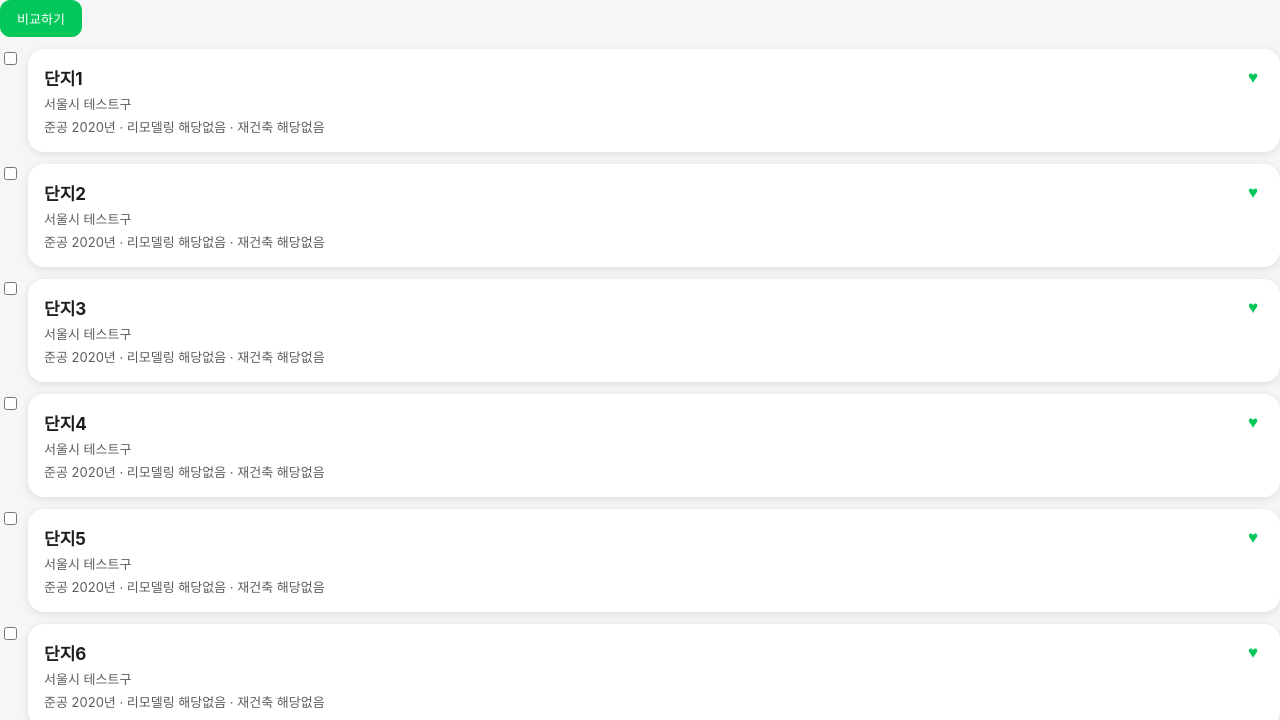
Test case: FavoriteComplexesTab › 5개 초과 선택을 시도하면 6번째는 선택되지 않고 경고 모달이 표시된다 (시나리오 3-2 Case 1)
Click the checkbox named "단지1 선택".
click(10, 58)  # box [4, 52, 17, 65]
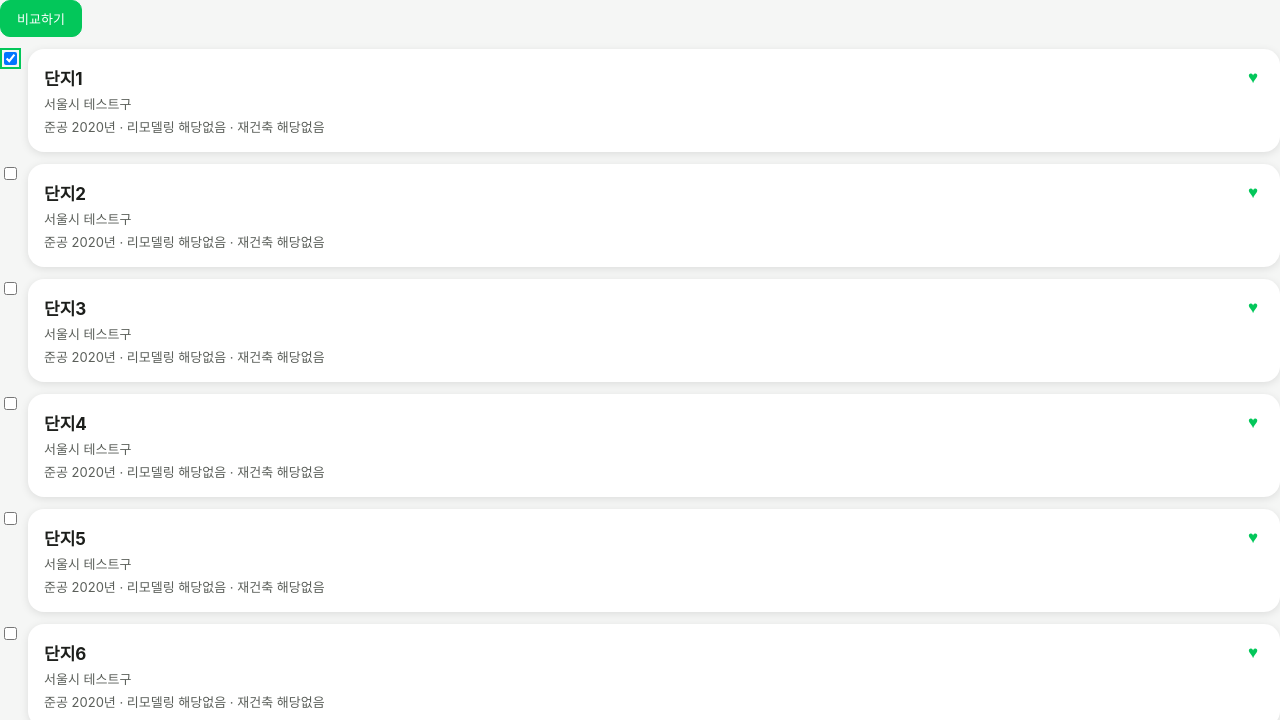
Click the checkbox named "단지2 선택".
click(10, 174)  # box [4, 167, 17, 180]
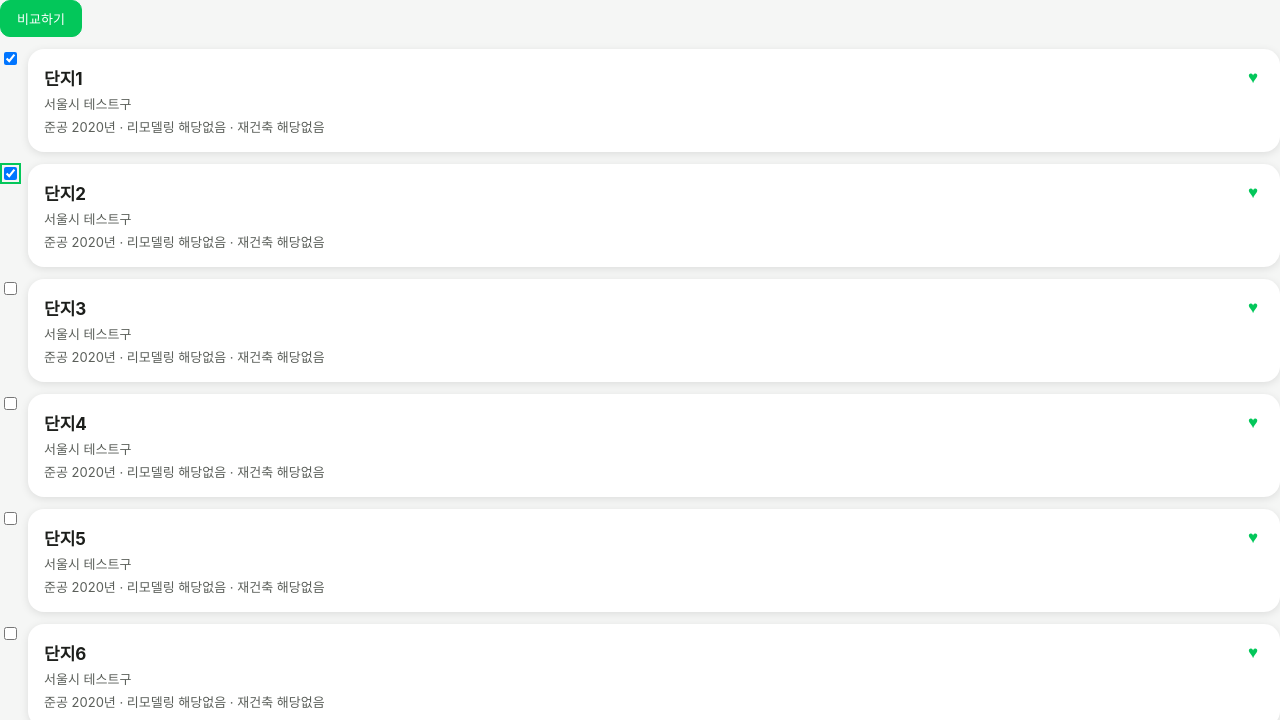
Click the checkbox named "단지3 선택".
click(10, 288)  # box [4, 282, 17, 295]
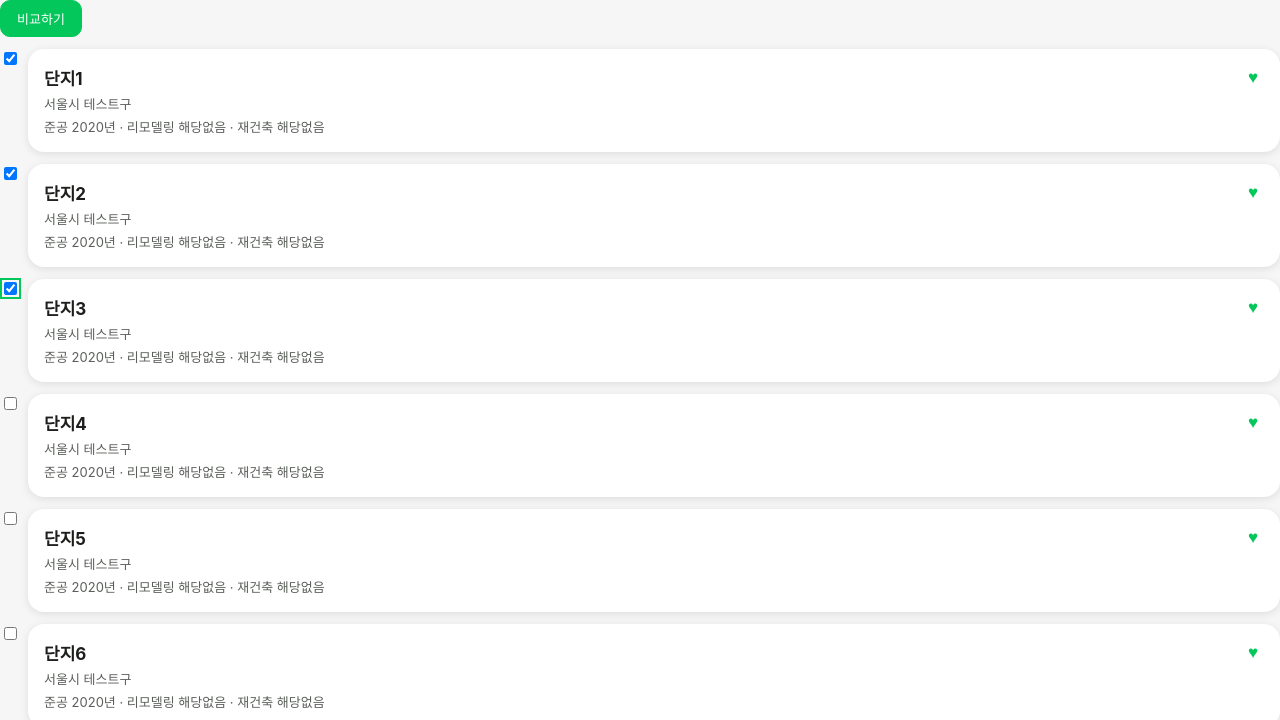
Click the checkbox named "단지4 선택".
click(10, 404)  # box [4, 397, 17, 410]
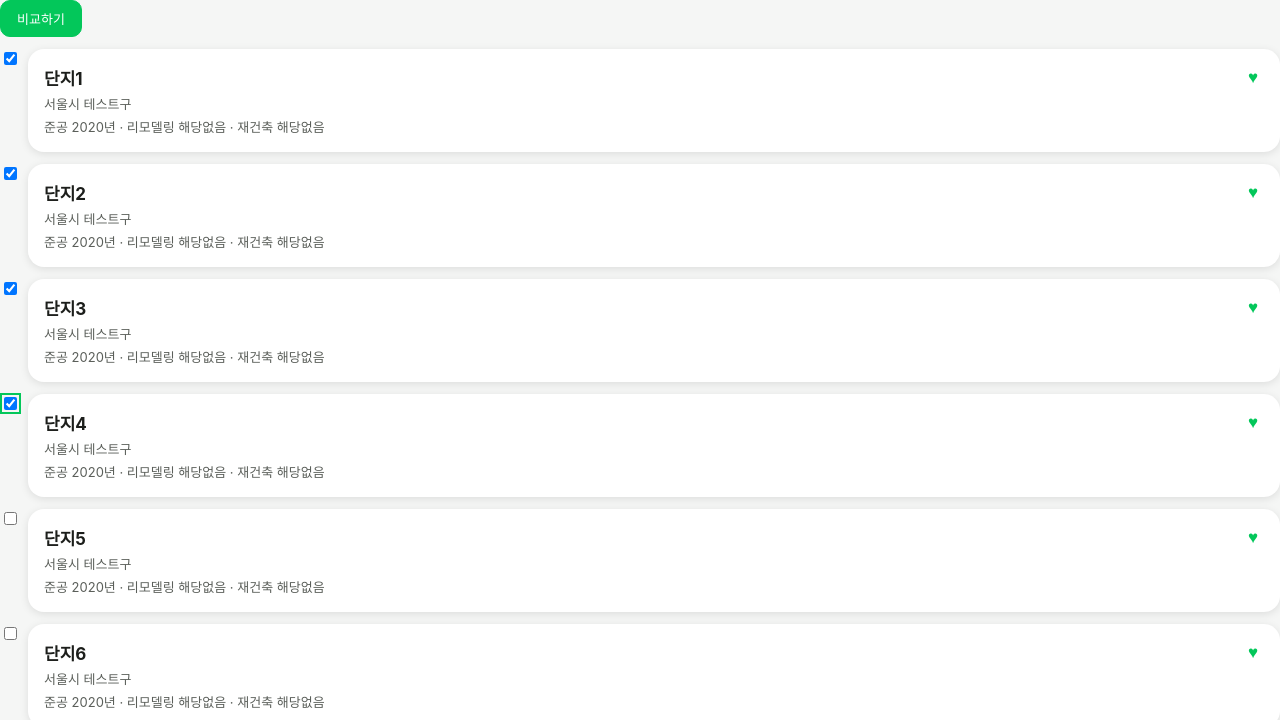
Click the checkbox named "단지5 선택".
click(10, 518)  # box [4, 512, 17, 525]
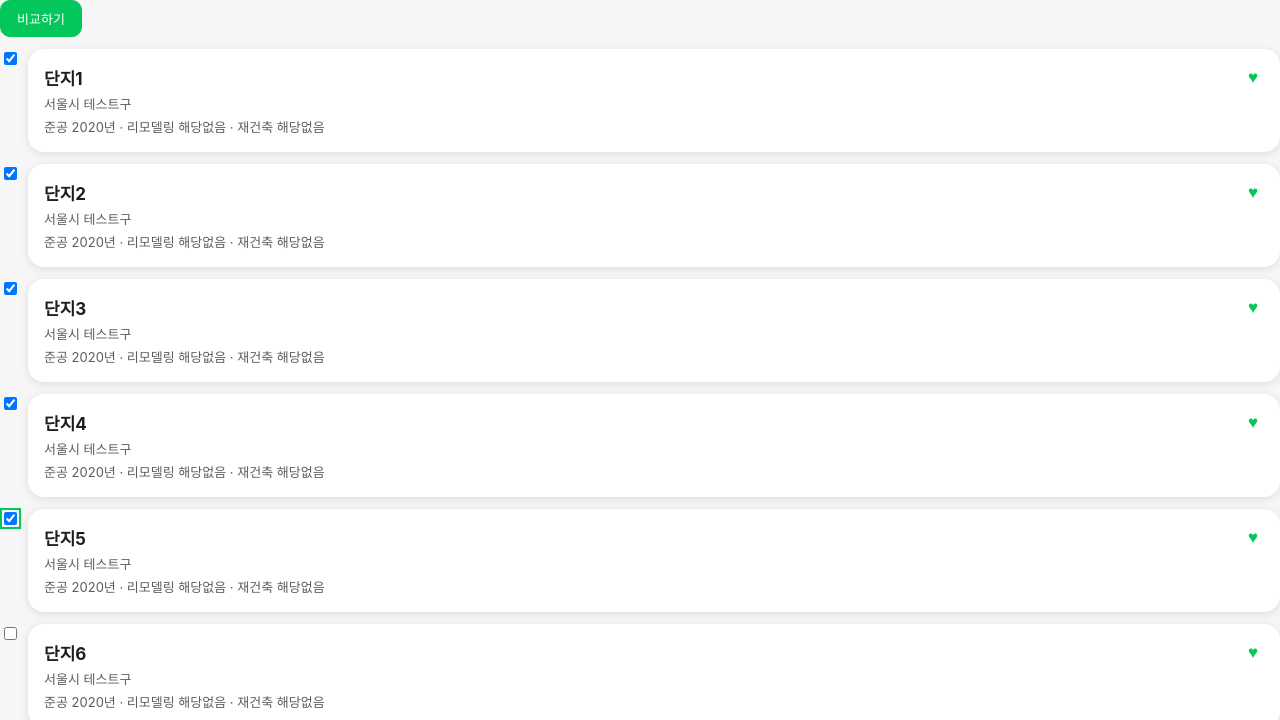
Click the checkbox named "단지6 선택".
click(10, 634)  # box [4, 627, 17, 640]
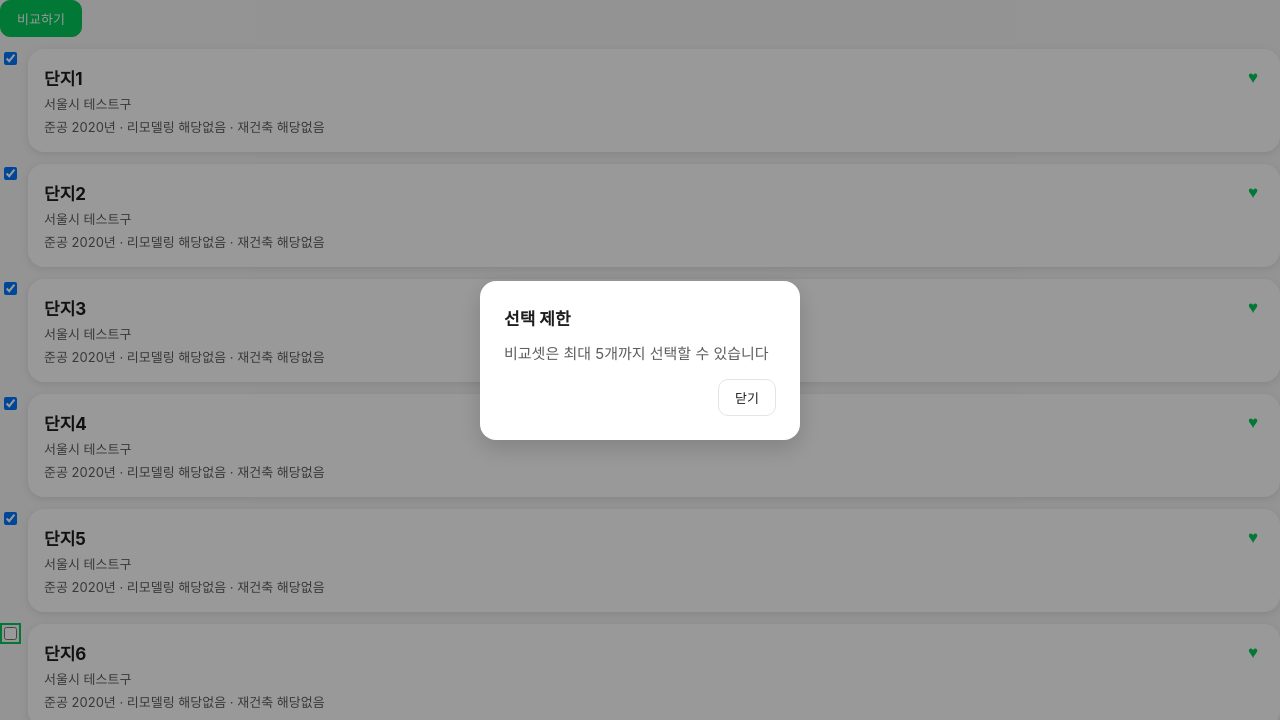
expect the text "비교셋은 최대 5개까지 선택할 수 있습니다" is shown: met, box [504, 342, 776, 362]
